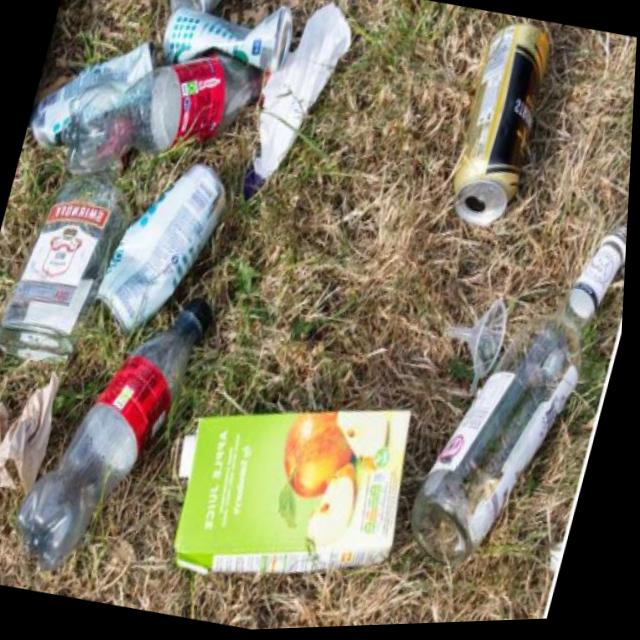clothes: (428, 15, 568, 264), (96, 145, 245, 337), (22, 0, 159, 171), (154, 0, 302, 79)
foam box: (402, 202, 631, 610), (0, 140, 148, 371)
food: (243, 0, 368, 194), (0, 372, 66, 503)
leaf: (13, 278, 210, 584), (115, 49, 262, 179), (426, 291, 525, 380)
trash: (147, 336, 446, 621)
